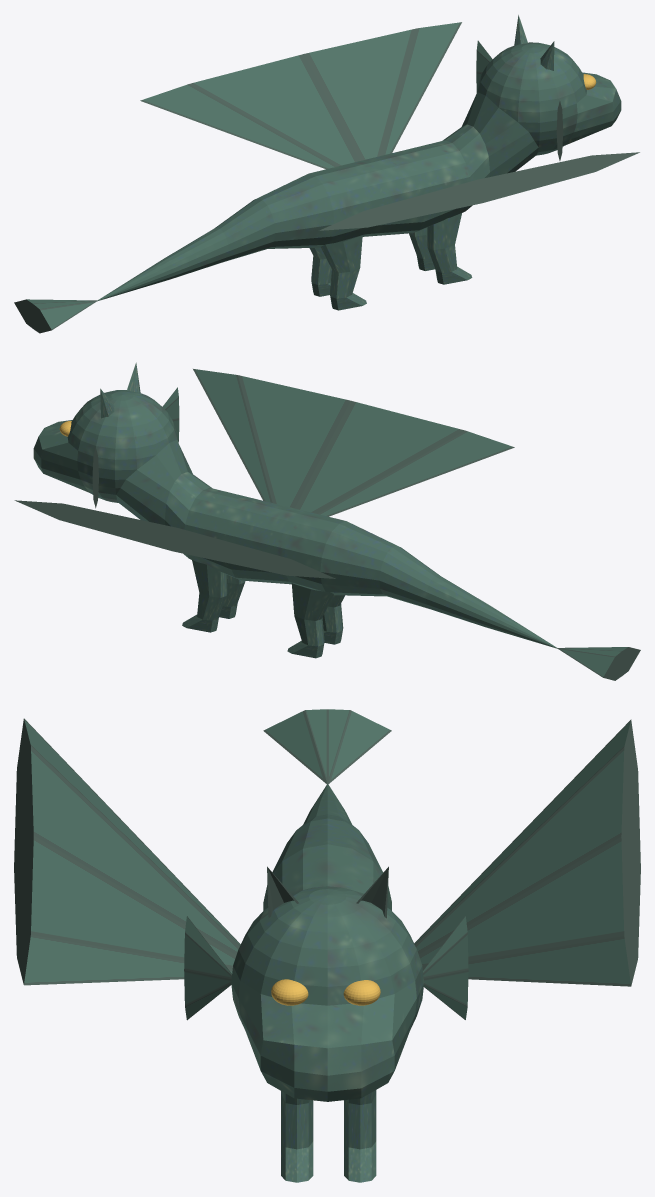
The model's file is SlugTheDragon.fbx.
3 renders of one model, top to bottom at view 1: azimuth 30°, elevation 25°; view 2: azimuth 150°, elevation 25°; view 3: azimuth 270°, elevation 25°, orthographic. The views are drawn at different scales.
Visible parts, largest first — view 1: RoadKillOut.001, LWing, RWing, BRLeg, FRLeg, BWing, BLLeg, FLLeg; view 2: RoadKillOut.001, RWing, LWing, BLLeg, FLLeg, BWing, BRLeg, FRLeg; view 3: RoadKillOut.001, LWing, RWing, BWing, FRWing, FLWing, FLLeg, FRLeg, REye, LEye, LEar, REar.
Part boxes in pixels (x1,y1,x2,y2): RoadKillOut.001: [97, 42, 621, 301]; LWing: [140, 22, 461, 169]; RWing: [319, 152, 639, 230]; BRLeg: [321, 235, 366, 310]; FRLeg: [427, 213, 472, 284]; BWing: [14, 299, 97, 333]; BLLeg: [309, 247, 331, 296]; FLLeg: [409, 227, 434, 270]; RoadKillOut.001: [33, 390, 556, 648]; RWing: [193, 369, 514, 516]; LWing: [14, 500, 335, 578]; BLLeg: [287, 583, 333, 658]; FLLeg: [182, 560, 227, 632]; BWing: [557, 647, 640, 680]; BRLeg: [322, 595, 344, 644]; FRLeg: [219, 575, 245, 618]; RoadKillOut.001: [231, 784, 424, 1101]; LWing: [414, 719, 640, 986]; RWing: [14, 718, 240, 985]; BWing: [263, 709, 391, 784]; FRWing: [184, 916, 231, 1020]; FLWing: [423, 916, 468, 1019]; FLLeg: [344, 1090, 376, 1182]; FRLeg: [281, 1091, 313, 1182]; REye: [271, 979, 308, 1005]; LEye: [343, 980, 380, 1005]; LEar: [356, 866, 388, 918]; REar: [267, 866, 298, 917].
Size of the model in its own units: 1777 by 648 by 974.
